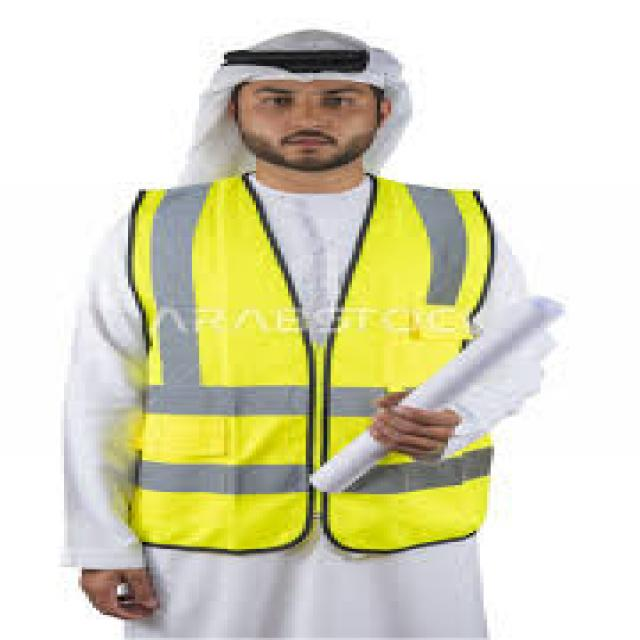Reflective-Jacket: (110, 164, 502, 560)
